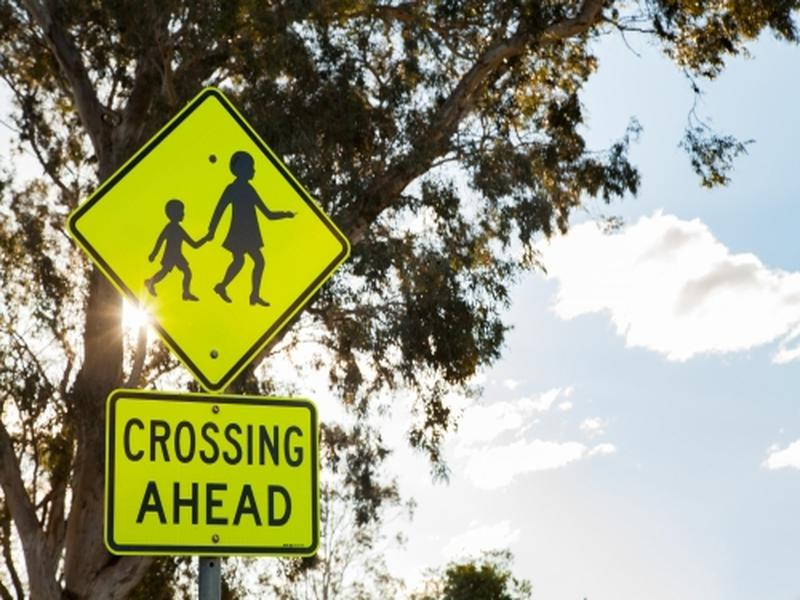slow: (60, 83, 355, 394)
